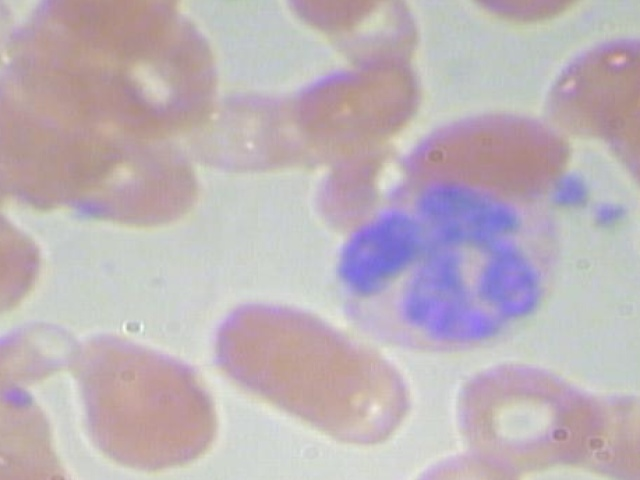Platelets: (542, 170, 603, 212), (576, 191, 636, 233), (206, 0, 263, 5)
RBC: (61, 325, 235, 475), (443, 358, 617, 471), (208, 294, 374, 410), (397, 102, 576, 207), (43, 124, 207, 227), (163, 83, 321, 183), (275, 53, 433, 153), (280, 350, 438, 450), (526, 34, 640, 140), (0, 317, 101, 399), (0, 212, 55, 327), (0, 0, 37, 96), (0, 144, 26, 239)
WBC: (321, 177, 564, 363)
